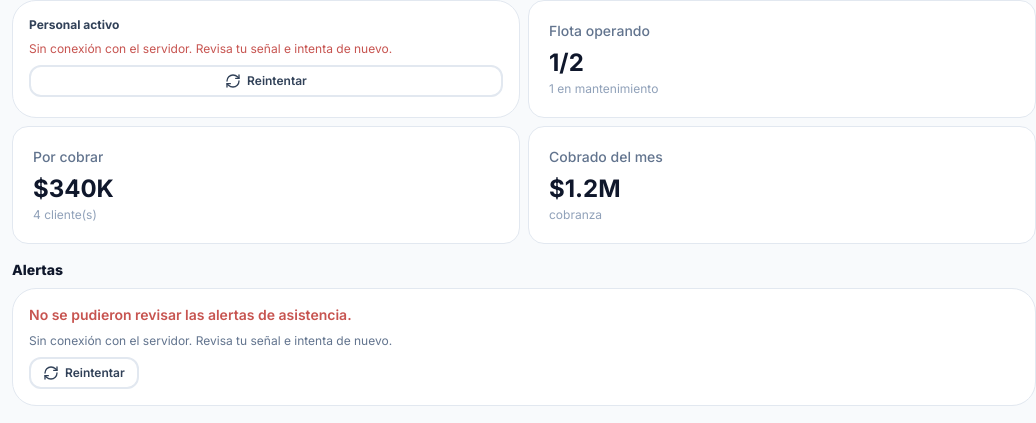
Scenario: PanelEmpresa › una fuente sin red muestra su error con Reintentar; las demás se ven
Expected: the text "Sin conexión con el servidor. Revisa tu señal e intenta de nuevo." is shown 2 times, [29, 41, 392, 56]; [29, 333, 392, 348]
Expected: the text "Personal activo" is shown, [29, 17, 119, 32]
Click the button "Reintentar" below "Personal activo": {"x": 266, "y": 81} [29, 65, 503, 97]
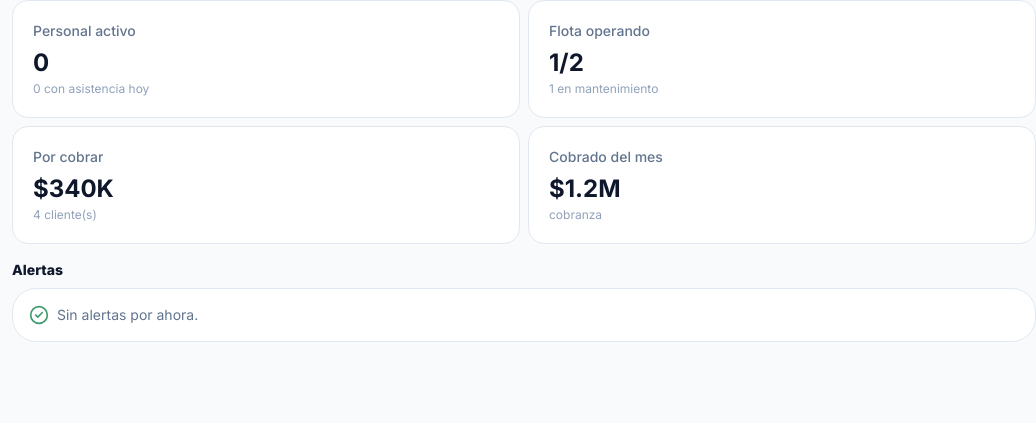
Now the text "0 con asistencia hoy" is shown, box [33, 81, 149, 96]
Now the text "No se pudieron revisar" is gone
Now the text "Sin conexión con el servidor. Revisa tu señal e intenta de nuevo." is gone
